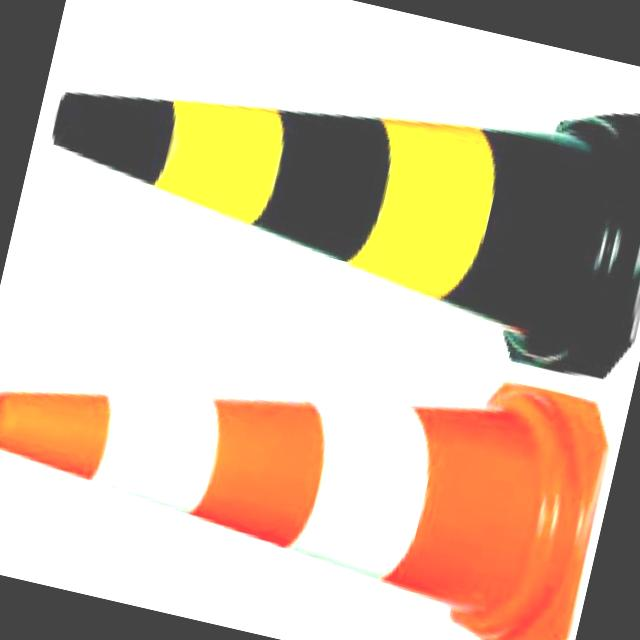cone: (0, 271, 610, 640), (25, 0, 640, 361)
